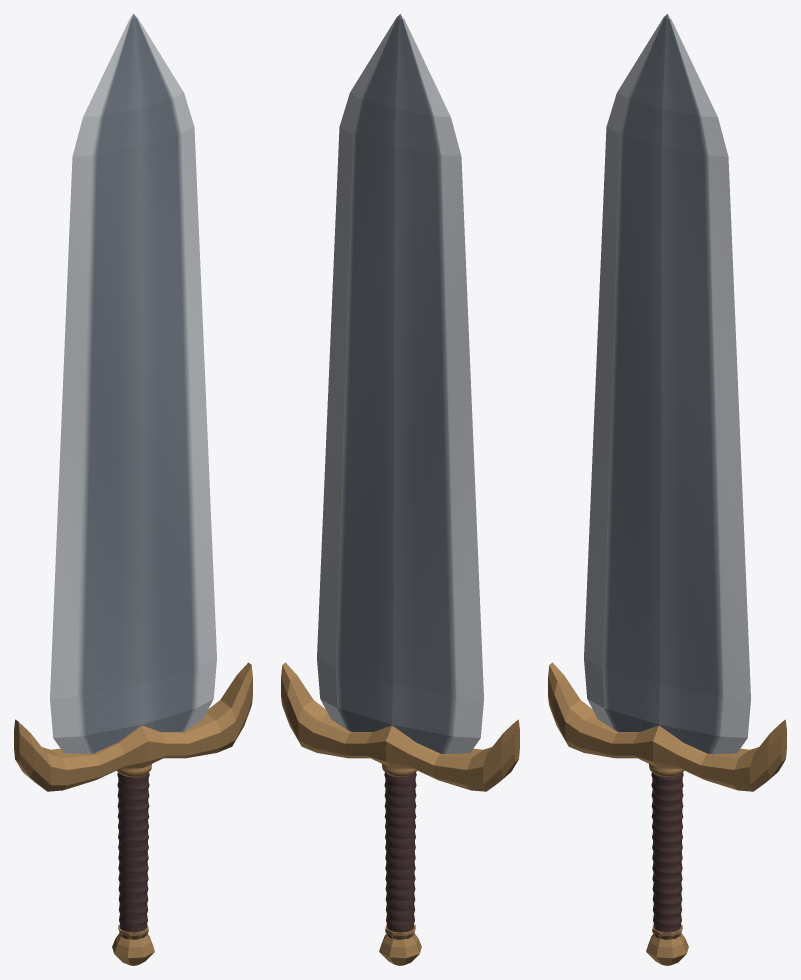
3 views of the same model, side by side, from view 1: azimuth 30°, elevation 25°; view 2: azimuth 150°, elevation 25°; view 3: azimuth 330°, elevation 25° (orthographic).
Size of the model in its own units: 0.424 by 1.65 by 0.092.
Materials: 1 (1 with a texture image).
